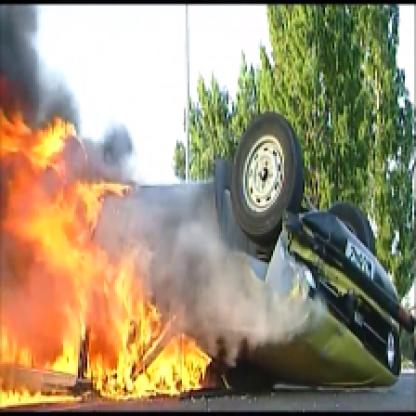Fire: (2, 91, 213, 414)
